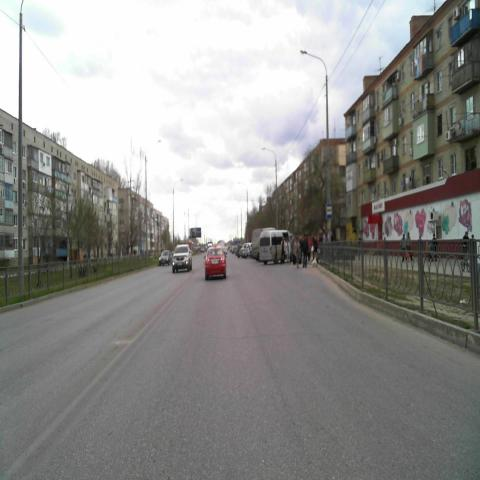5_16: (326, 203, 332, 220)
